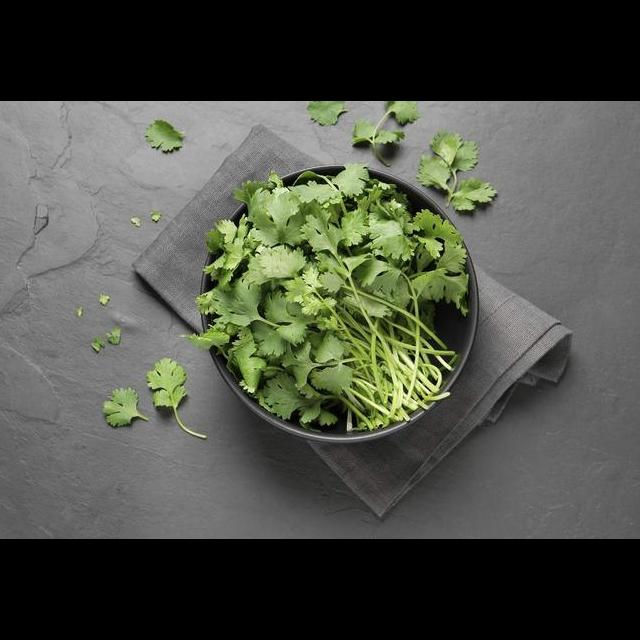cilantro: (182, 161, 470, 433)
